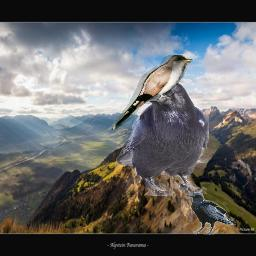Crow: (115, 76, 209, 196), (188, 192, 236, 235)
Cuckoo: (112, 55, 193, 130)
